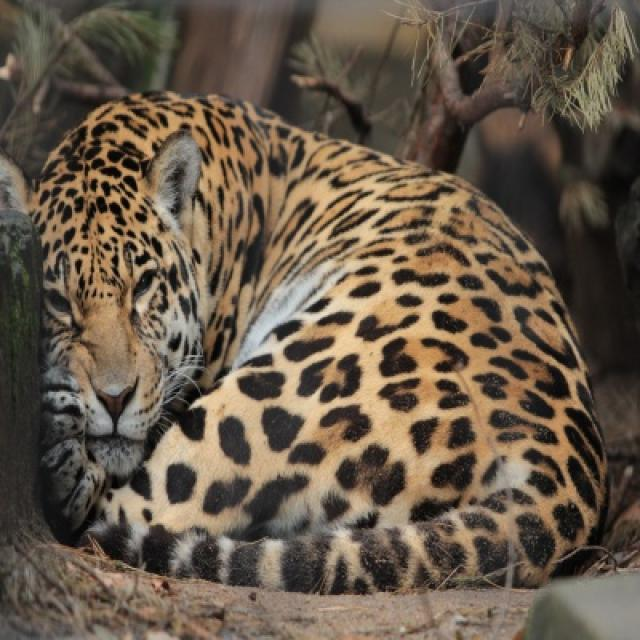Jaguar: (24, 91, 608, 598)
